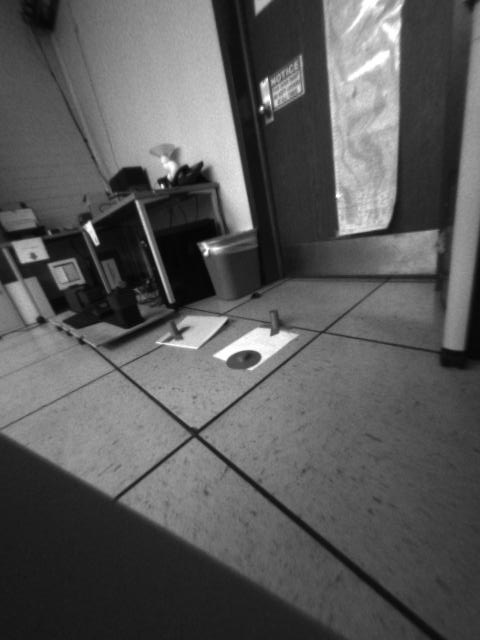X: (259, 307, 291, 335), (159, 318, 191, 345)
